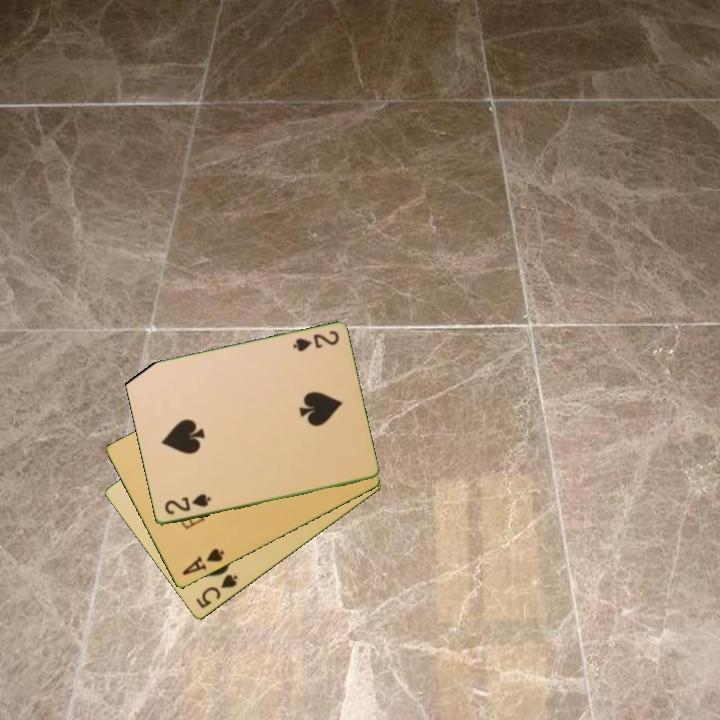2s: (289, 327, 342, 355), (161, 490, 213, 518)
5s: (192, 571, 241, 612)
As: (178, 545, 227, 579)
